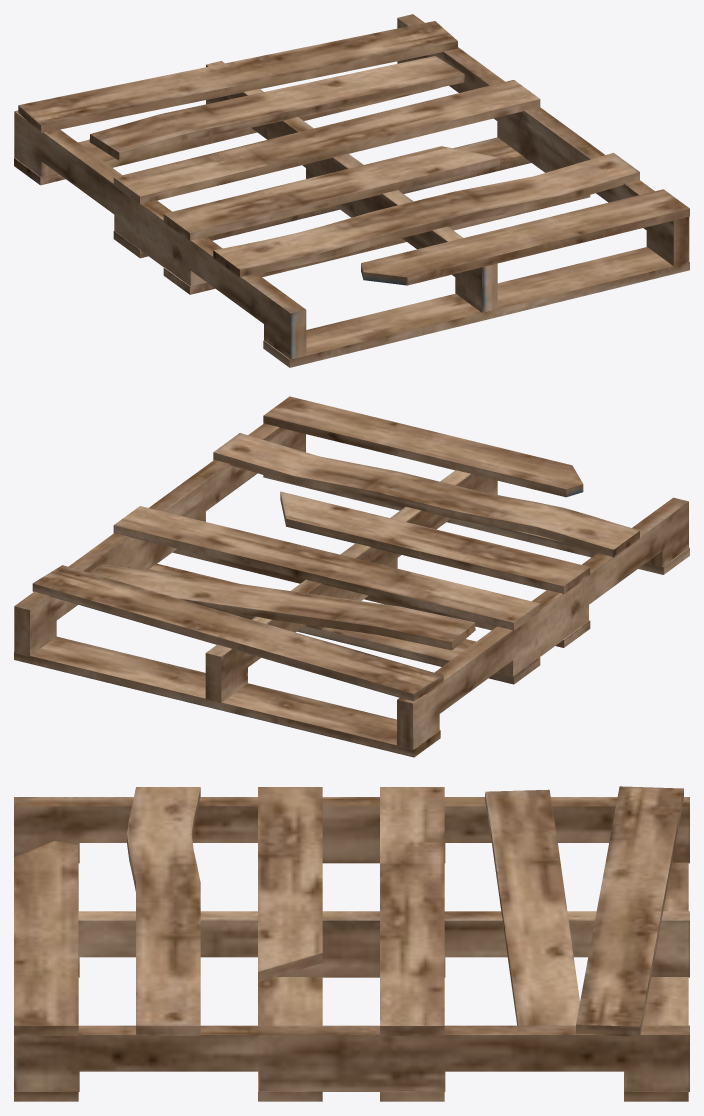
Rendered from pallet.glb.
The picture shows the model from 3 angles, top to bottom: view 1: azimuth 30°, elevation 25°; view 2: azimuth 150°, elevation 25°; view 3: azimuth 270°, elevation 25°; orthographic projection. The views are drawn at different scales.
Parts seen in each view (by area): view 1: Pallet_Old_V1; view 2: Pallet_Old_V1; view 3: Pallet_Old_V1.
Boxes of the visible parts, box(x1,y1,x2,y2) form: Pallet_Old_V1: box(14, 14, 689, 367); Pallet_Old_V1: box(14, 396, 689, 757); Pallet_Old_V1: box(14, 786, 689, 1101).
Bounding box in the file's own units: 1.03 × 0.1682 × 1.22.
1 material, 1 textured.
